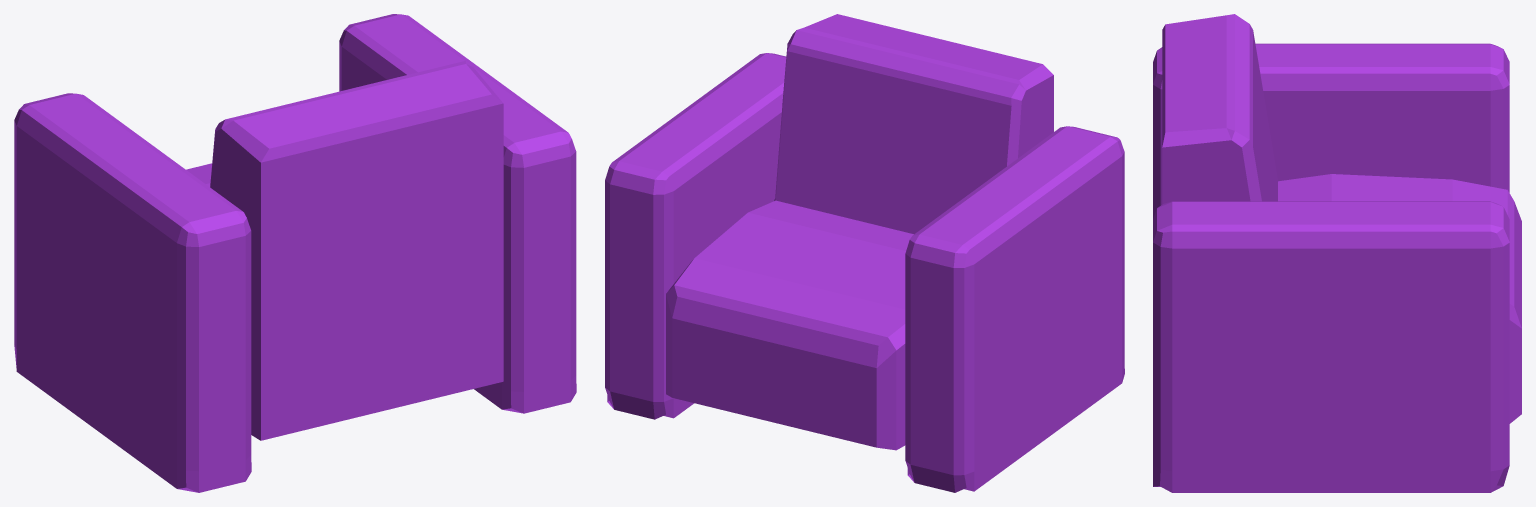
Rendered from armchair.fbx.
3 views of the same model, side by side, from view 1: azimuth 30°, elevation 25°; view 2: azimuth 150°, elevation 25°; view 3: azimuth 270°, elevation 25° (orthographic). The views are drawn at different scales.
Parts seen in each view (by area): view 1: armchair; view 2: armchair; view 3: armchair.
Boxes of the visible parts, bbox=[...] form: armchair: bbox=[14, 14, 576, 492]; armchair: bbox=[605, 14, 1124, 492]; armchair: bbox=[1153, 14, 1521, 492].
Size of the model in its own units: 255 by 202 by 207.
